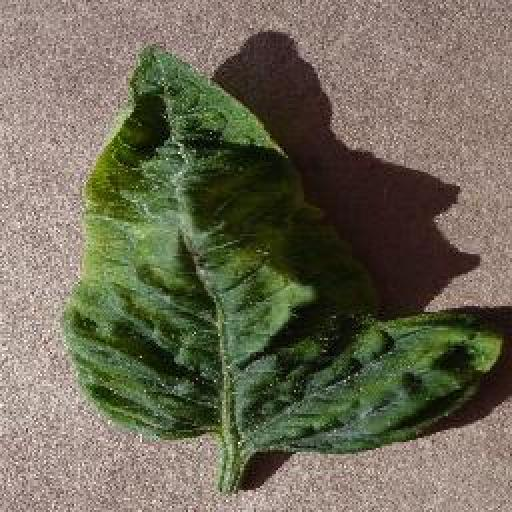disease_tomato: (58, 41, 506, 452)
